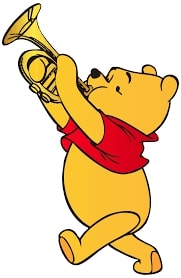Winnie: (77, 53, 174, 141)
